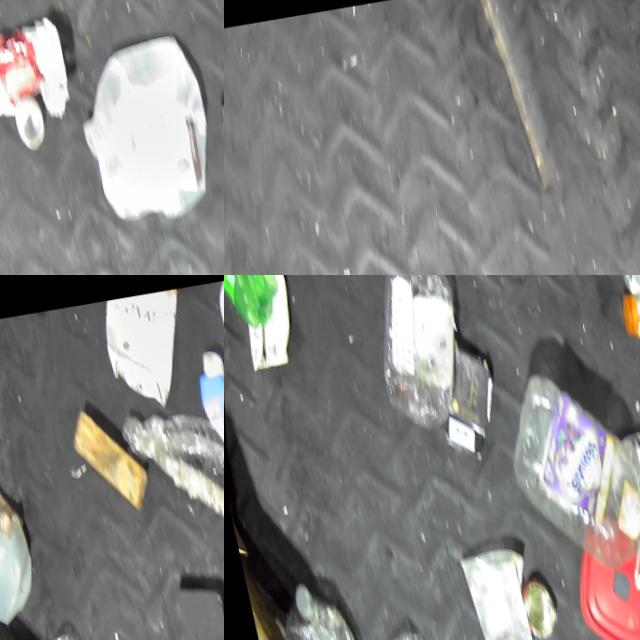can: (453, 541, 544, 640), (512, 572, 557, 640), (207, 93, 224, 217)
milk_jug: (63, 30, 223, 228), (0, 455, 43, 629)
plastic_bottle: (345, 275, 477, 435), (120, 391, 224, 580), (267, 573, 365, 640)
